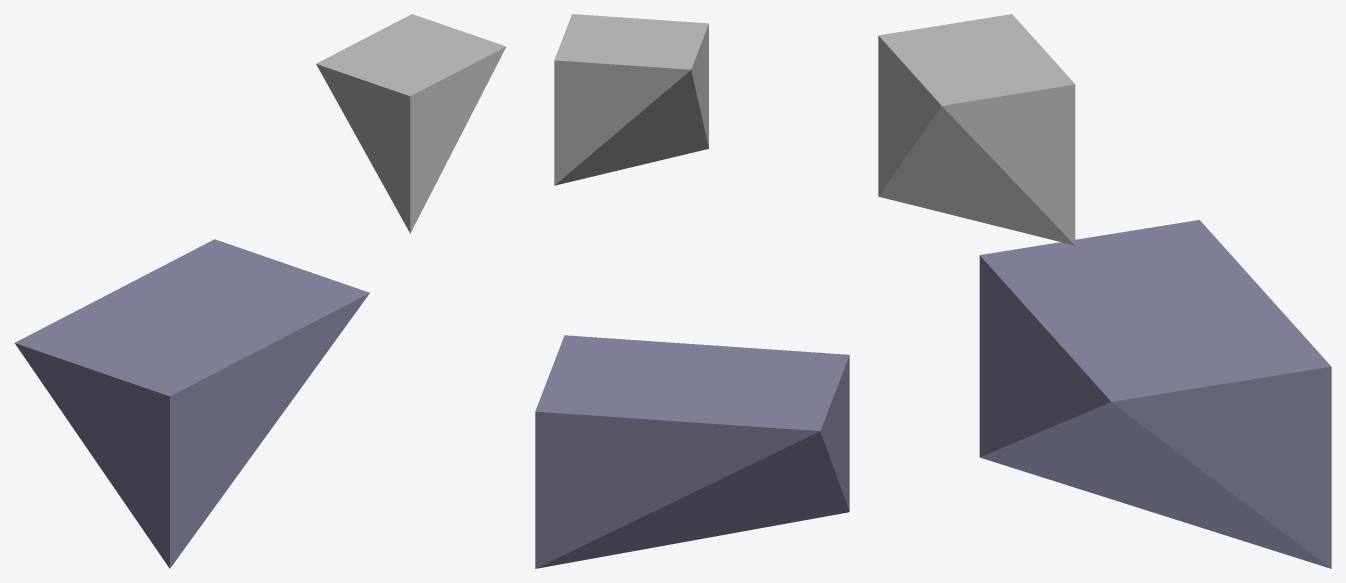
3 views of the same model, side by side, from view 1: azimuth 30°, elevation 25°; view 2: azimuth 150°, elevation 25°; view 3: azimuth 270°, elevation 25° (orthographic). The views are drawn at different scales.
Visible parts, largest first — view 1: buildings; view 2: buildings; view 3: buildings.
Part boxes in pixels (x1,y1,x2,y2): buildings: (15,14,506,568); buildings: (535,14,849,568); buildings: (878,14,1331,568).
Bounding box in the file's own units: 7.9 × 9.01 × 6.91.
